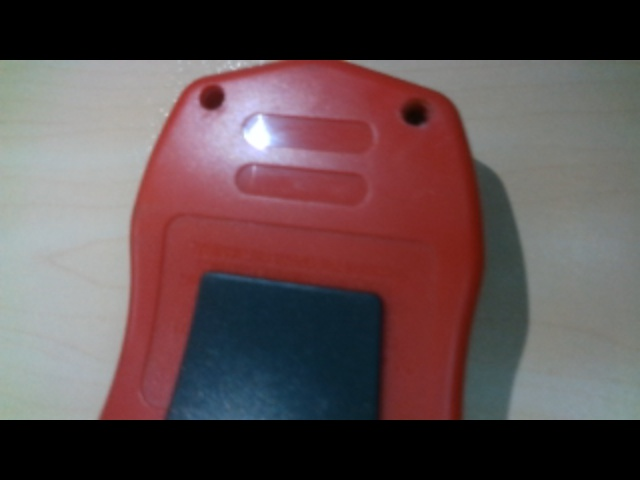Screw holes: (397, 96, 432, 129), (197, 83, 227, 111)
